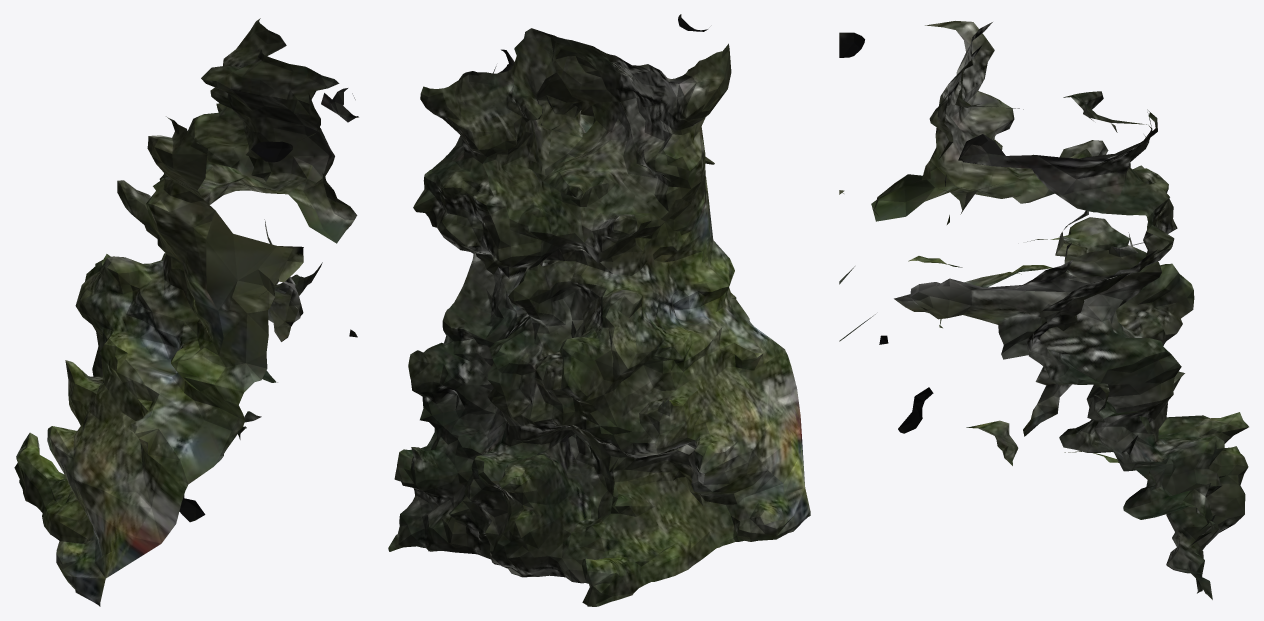
3 views of the same model, side by side, from view 1: azimuth 30°, elevation 25°; view 2: azimuth 150°, elevation 25°; view 3: azimuth 270°, elevation 25° (orthographic). The views are drawn at different scales.
Bounding box in the file's own units: 4.54 × 6.7 × 5.08.
4 materials, 4 textured.
